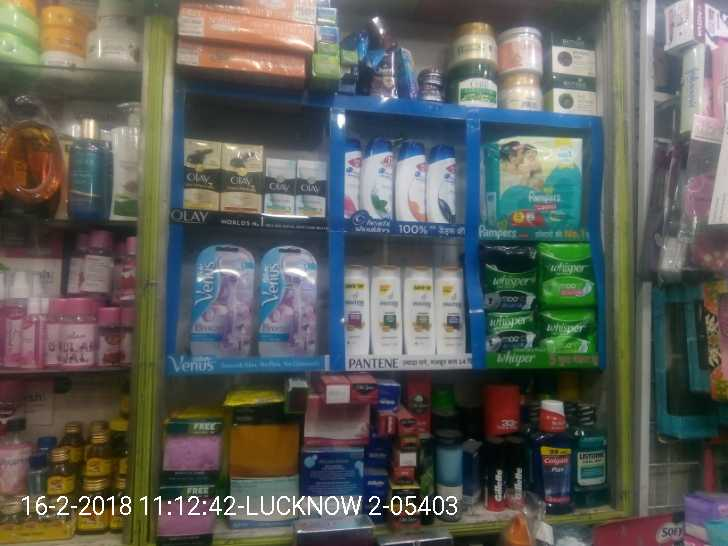gillete: (487, 440, 506, 509), (509, 438, 523, 507)
venus: (194, 250, 254, 357), (262, 246, 316, 357)
